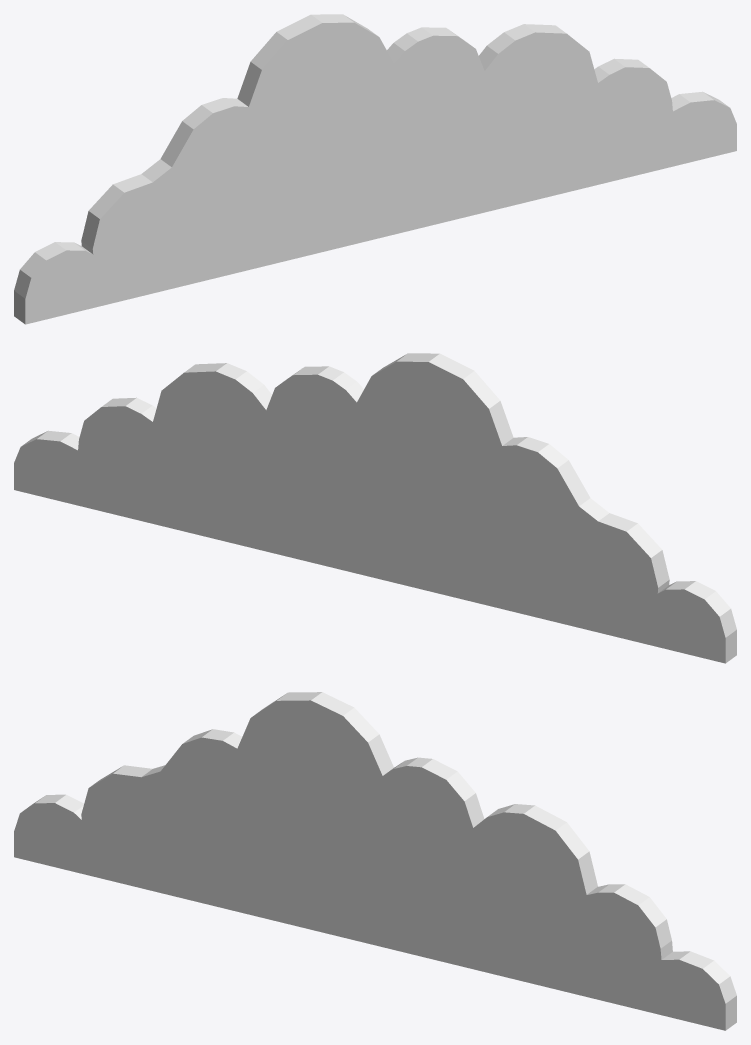
The model's file is cartoon_cloud_9.fbx.
3 views of the same model, one above another, from view 1: azimuth 30°, elevation 25°; view 2: azimuth 150°, elevation 25°; view 3: azimuth 330°, elevation 25° (orthographic).
Parts seen in each view (by area): view 1: cloud_79; view 2: cloud_79; view 3: cloud_79.
Part boxes in pixels (box(x1,y1,x2,y2)): cloud_79: box(14, 14, 736, 324); cloud_79: box(14, 353, 736, 663); cloud_79: box(14, 692, 736, 1030).
Size of the model in its own units: 718 by 221 by 20.
